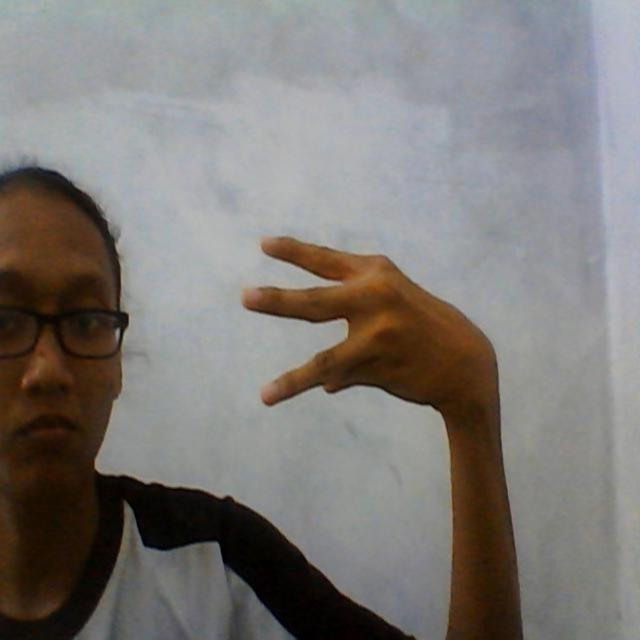E: (228, 203, 512, 442)
